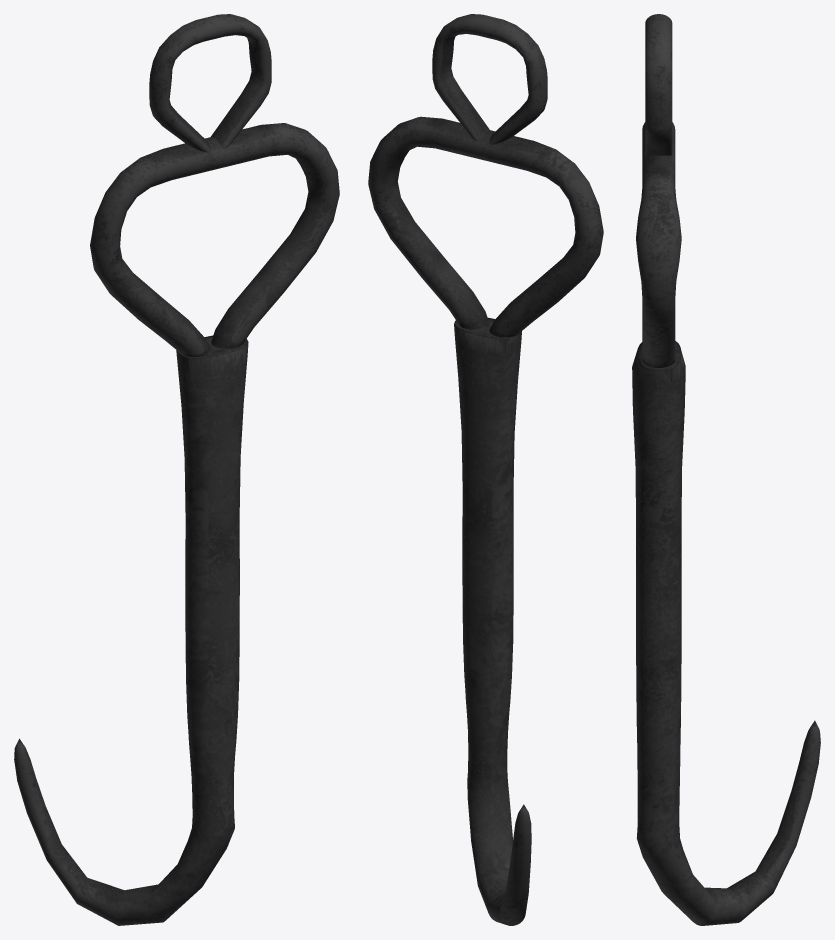
Rendered from hook.glb.
3 renders of one model, left to right at view 1: azimuth 30°, elevation 25°; view 2: azimuth 150°, elevation 25°; view 3: azimuth 270°, elevation 25°, orthographic. The views are drawn at different scales.
Visible parts, largest first — view 1: hook; view 2: hook; view 3: hook.
Part boxes in pixels (x1,y1,x2,y2): hook: (14, 14, 339, 925); hook: (368, 14, 603, 925); hook: (632, 14, 820, 925).
Bounding box in the file's own units: 1.68 × 6.02 × 1.11.
Materials: 1 (1 with a texture image).
